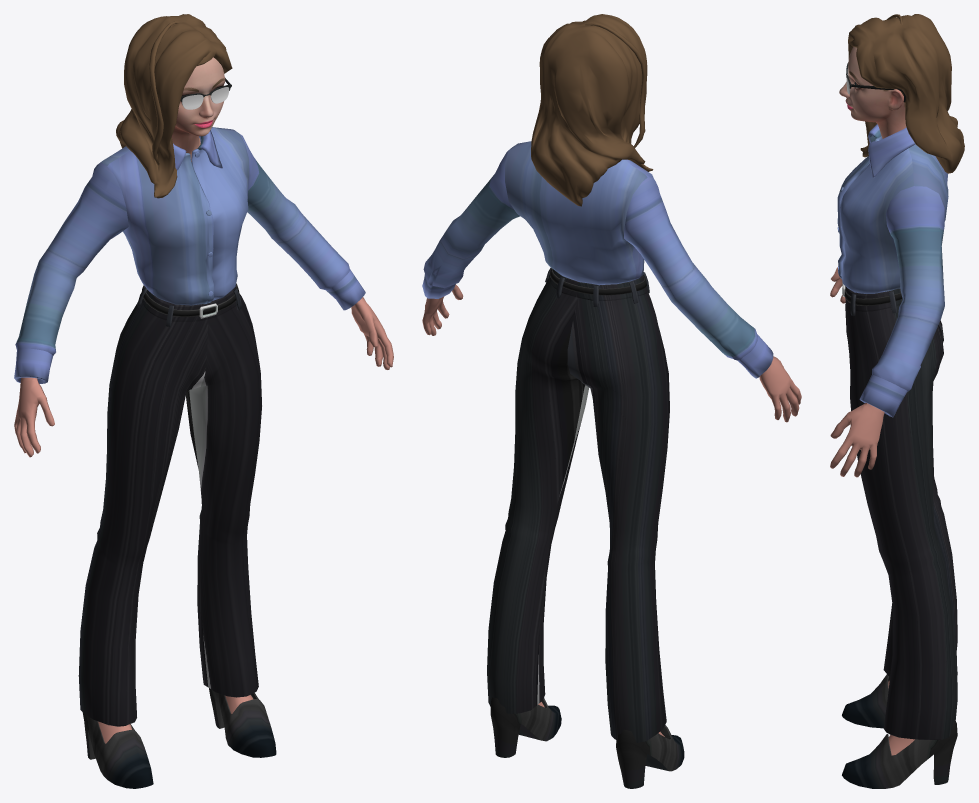
File: developer-me.fbx
3 views of the same model, side by side, from view 1: azimuth 30°, elevation 25°; view 2: azimuth 150°, elevation 25°; view 3: azimuth 270°, elevation 25° (orthographic).
Parts seen in each view (by area): view 1: Wolf3D_Outfit_Bottom, Wolf3D_Outfit_Top, Wolf3D_Hair, Wolf3D_Outfit_Footwear, Wolf3D_Body, Wolf3D_Head; view 2: Wolf3D_Outfit_Bottom, Wolf3D_Outfit_Top, Wolf3D_Hair, Wolf3D_Outfit_Footwear, Wolf3D_Body; view 3: Wolf3D_Outfit_Bottom, Wolf3D_Outfit_Top, Wolf3D_Hair, Wolf3D_Outfit_Footwear, Wolf3D_Body, Wolf3D_Head, Wolf3D_Glasses.
Boxes of the visible parts, x1,y1,x2,y2 form: Wolf3D_Outfit_Bottom: [78, 283, 261, 726]; Wolf3D_Outfit_Top: [14, 127, 365, 383]; Wolf3D_Hair: [116, 14, 232, 198]; Wolf3D_Outfit_Footwear: [82, 688, 276, 788]; Wolf3D_Body: [14, 297, 393, 743]; Wolf3D_Head: [171, 57, 225, 161]; Wolf3D_Outfit_Bottom: [487, 267, 669, 742]; Wolf3D_Outfit_Top: [422, 141, 773, 378]; Wolf3D_Hair: [531, 14, 653, 206]; Wolf3D_Outfit_Footwear: [490, 697, 684, 788]; Wolf3D_Body: [422, 284, 801, 736]; Wolf3D_Outfit_Bottom: [842, 281, 957, 739]; Wolf3D_Outfit_Top: [837, 124, 948, 417]; Wolf3D_Hair: [848, 14, 964, 173]; Wolf3D_Outfit_Footwear: [842, 672, 957, 788]; Wolf3D_Body: [830, 267, 914, 755]; Wolf3D_Head: [839, 46, 906, 138]; Wolf3D_Glasses: [846, 62, 905, 102].
Size of the model in its own units: 0.9279 by 1.77 by 0.2959.
Materials: 9 (9 with a texture image).
